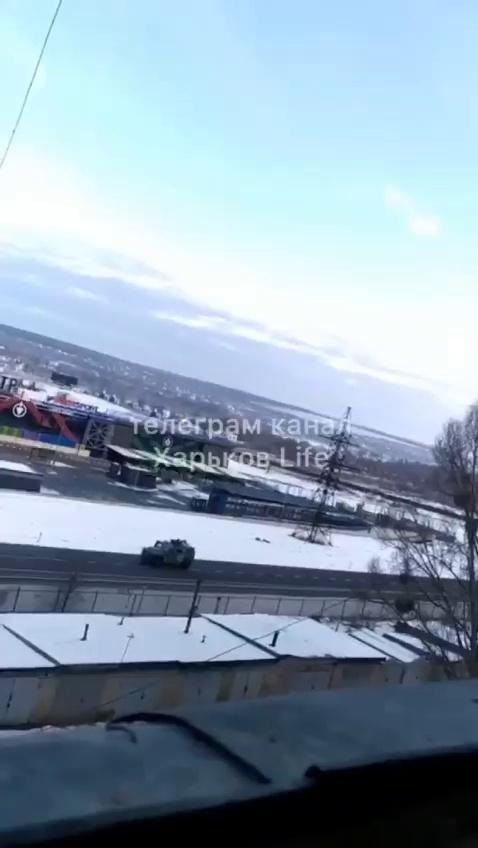armored_car: (142, 538, 196, 570)
